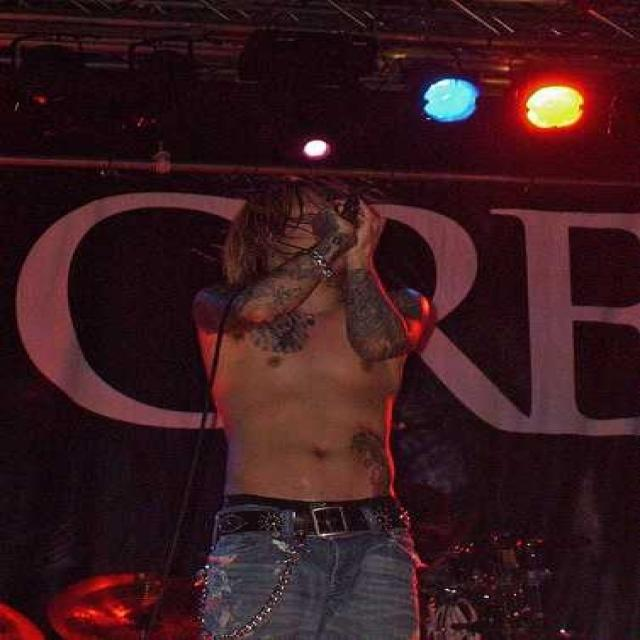microphone: (336, 195, 385, 258)
